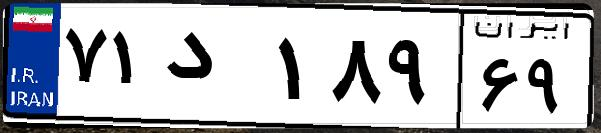1: (270, 28, 330, 110), (110, 28, 158, 98)
6: (475, 38, 525, 113)
7: (57, 26, 110, 100)
8: (330, 28, 385, 110)
9: (385, 28, 445, 110), (525, 38, 570, 115)
د: (158, 20, 270, 120)
